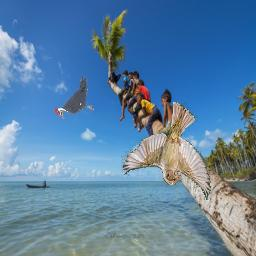Sparrow: (121, 102, 211, 200)
Woodpecker: (54, 77, 95, 120)
